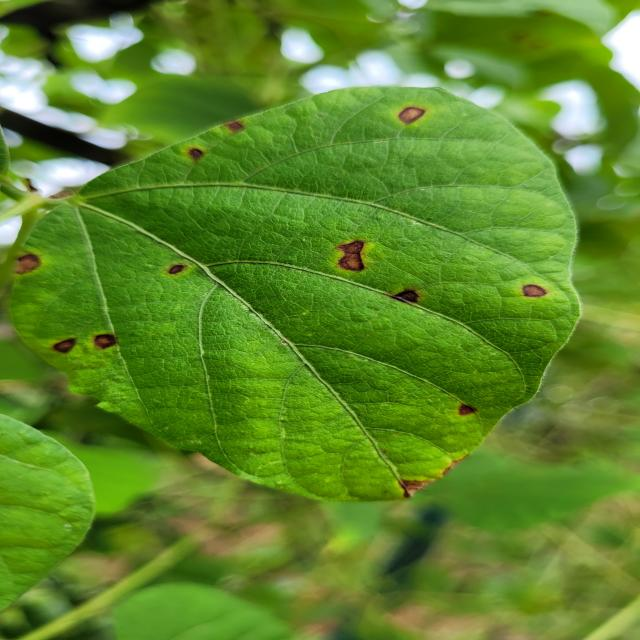Dolicos bean_cercospora leaf spot: (0, 89, 578, 508)
